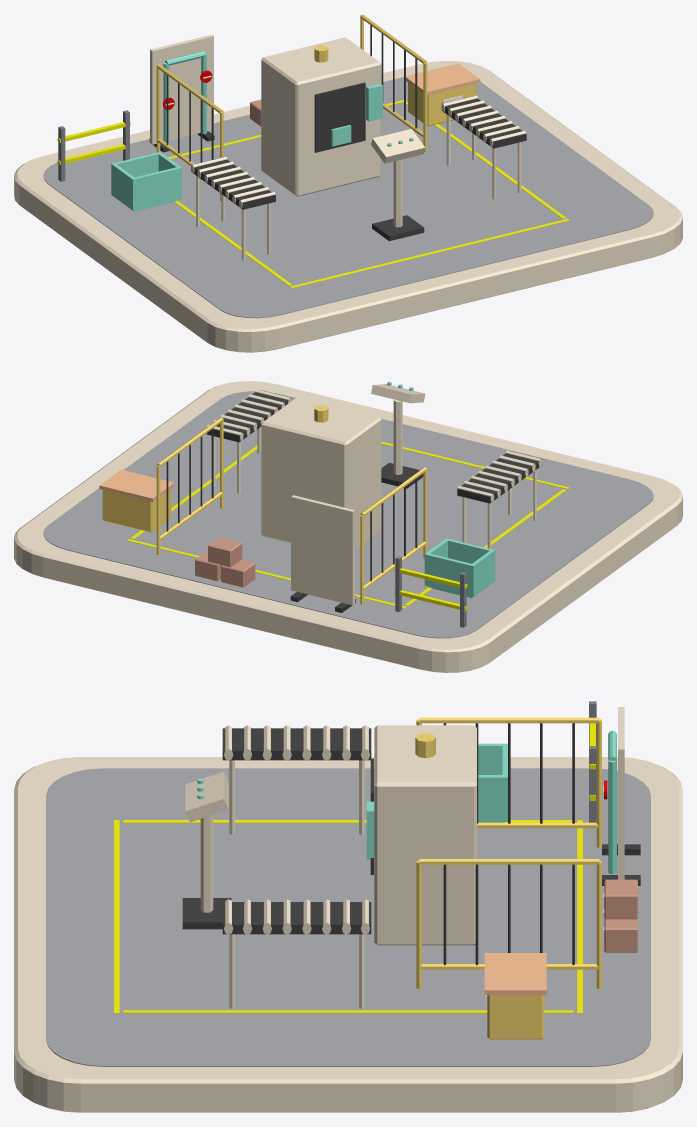
File: room.fbx
3 views of the same model, one above another, from view 1: azimuth 30°, elevation 25°; view 2: azimuth 150°, elevation 25°; view 3: azimuth 270°, elevation 25° (orthographic). The views are drawn at different scales.
Visible parts, largest first — view 1: COM-02 Floor Surface, COM-01 Rounded Base Direct, Machine, Panel, Cabinet window, Belt.001, Bin end, Belt, Lid, Box, Control console, Bin side (+6 smaller); view 2: COM-02 Floor Surface, COM-01 Rounded Base Direct, Machine, Panel, Box, Belt, Lid, Belt.001, Bin end.001, Bin side, Stacked case.002, Stacked case (+6 smaller); view 3: COM-02 Floor Surface, COM-01 Rounded Base Direct, Machine, Belt.001, Belt, Lid, Box, Control console, Work zone stripe.001, Bin side.001, Stacked case.002, Stand (+15 smaller).
Boxes of the visible parts, x1=… form: COM-02 Floor Surface: x1=43, y1=77, x2=653, y2=318; COM-01 Rounded Base Direct: x1=14, y1=61, x2=682, y2=352; Machine: x1=261, y1=37, x2=381, y2=196; Panel: x1=150, y1=34, x2=213, y2=144; Cabinet window: x1=314, y1=82, x2=365, y2=152; Belt.001: x1=441, y1=96, x2=526, y2=148; Bin end: x1=134, y1=167, x2=179, y2=209; Belt: x1=191, y1=157, x2=275, y2=209; Lid: x1=406, y1=63, x2=480, y2=95; Box: x1=408, y1=82, x2=476, y2=126; Control console: x1=371, y1=128, x2=425, y2=163; Bin side: x1=111, y1=163, x2=135, y2=210; COM-02 Floor Surface: x1=43, y1=391, x2=653, y2=638; COM-01 Rounded Base Direct: x1=14, y1=381, x2=682, y2=672; Machine: x1=261, y1=397, x2=381, y2=549; Panel: x1=291, y1=495, x2=354, y2=605; Box: x1=102, y1=489, x2=171, y2=532; Belt: x1=457, y1=451, x2=542, y2=503; Lid: x1=99, y1=469, x2=174, y2=501; Belt.001: x1=206, y1=390, x2=291, y2=442; Bin end.001: x1=427, y1=553, x2=472, y2=596; Bin side: x1=471, y1=549, x2=495, y2=597; Stacked case.002: x1=208, y1=537, x2=242, y2=567; Stacked case: x1=221, y1=559, x2=255, y2=587; COM-02 Floor Surface: x1=46, y1=768, x2=650, y2=1066; COM-01 Rounded Base Direct: x1=14, y1=757, x2=682, y2=1112; Machine: x1=374, y1=725, x2=476, y2=945; Belt.001: x1=222, y1=902, x2=371, y2=934; Belt: x1=222, y1=728, x2=371, y2=760; Lid: x1=484, y1=953, x2=546, y2=995; Box: x1=487, y1=995, x2=544, y2=1039; Control console: x1=185, y1=771, x2=228, y2=822; Work zone stripe.001: x1=123, y1=1010, x2=573, y2=1013; Bin side.001: x1=478, y1=775, x2=507, y2=821; Stacked case.002: x1=604, y1=879, x2=637, y2=919; Stand: x1=200, y1=815, x2=213, y2=912.
Size of the model in its own units: 600 by 184 by 520.
